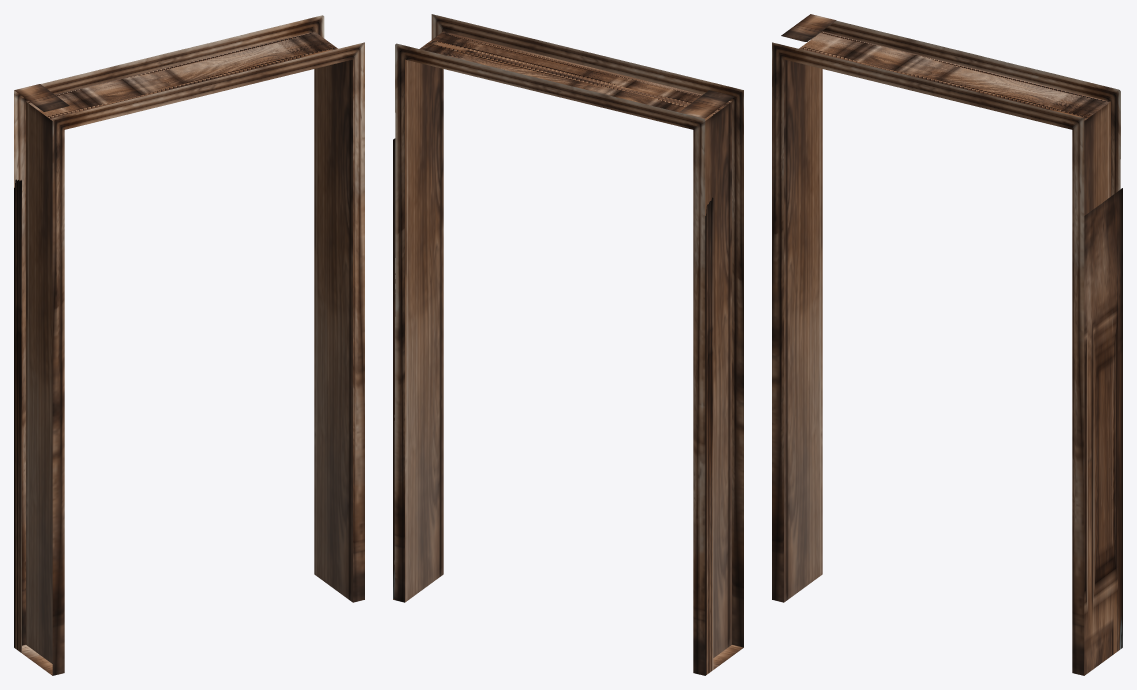
The model's file is DoorWodCover_1.fbx.
3 renders of one model, left to right at view 1: azimuth 30°, elevation 25°; view 2: azimuth 150°, elevation 25°; view 3: azimuth 330°, elevation 25°, orthographic.
Parts seen in each view (by area): view 1: DoorWodCover_1; view 2: DoorWodCover_1; view 3: DoorWodCover_1.
Part boxes in pixels (x1,y1,x2,y2): DoorWodCover_1: (14,15,364,675); DoorWodCover_1: (393,14,743,675); DoorWodCover_1: (772,14,1122,675).
Bounding box in the file's own units: 261 × 444 × 55.92.
